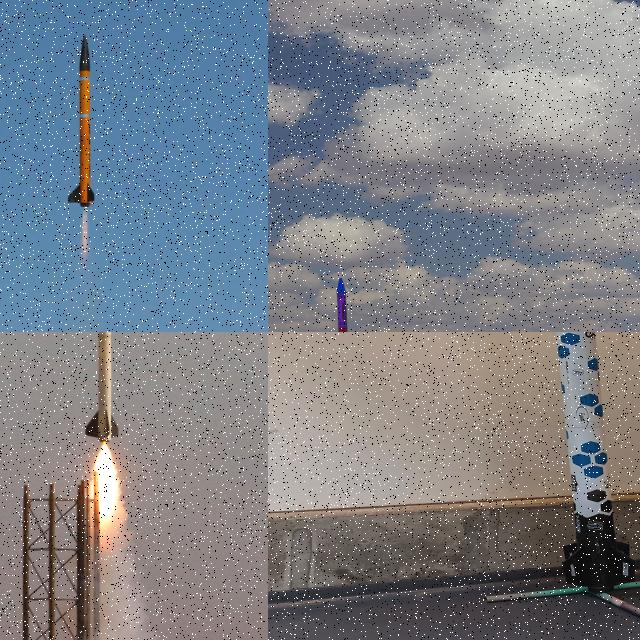Rocket: (555, 332, 635, 593), (67, 34, 97, 208), (83, 332, 120, 444), (328, 276, 357, 332)
